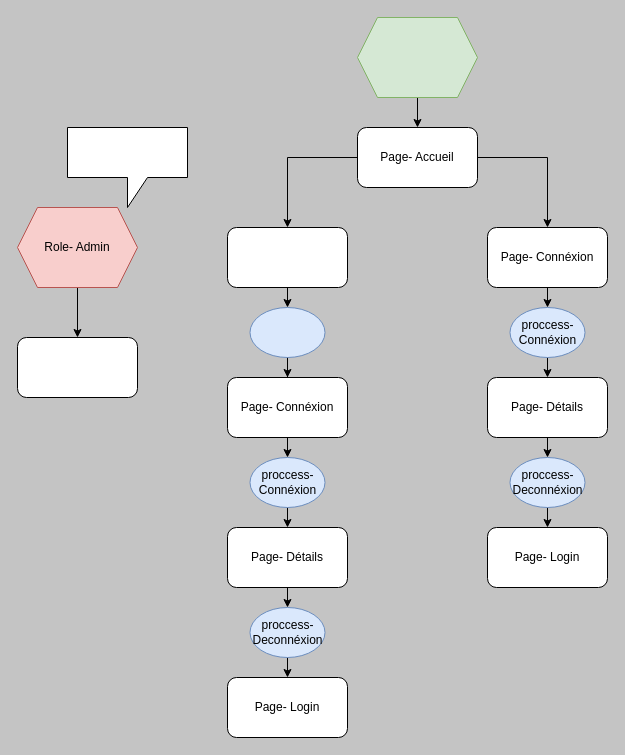
This 625x755 diagram has some shape labels left out. The shapes that lost their labels are listed below. From the top down, each one's centre as x and y in pixels, then its label:
point 417,57: Role- User
point 127,167: Si vous êtes admin vous pouvez accéder à cette page
point 287,257: Page- Régistration
point 287,332: proccess- Créeation du compte
point 77,367: Page- Administration
